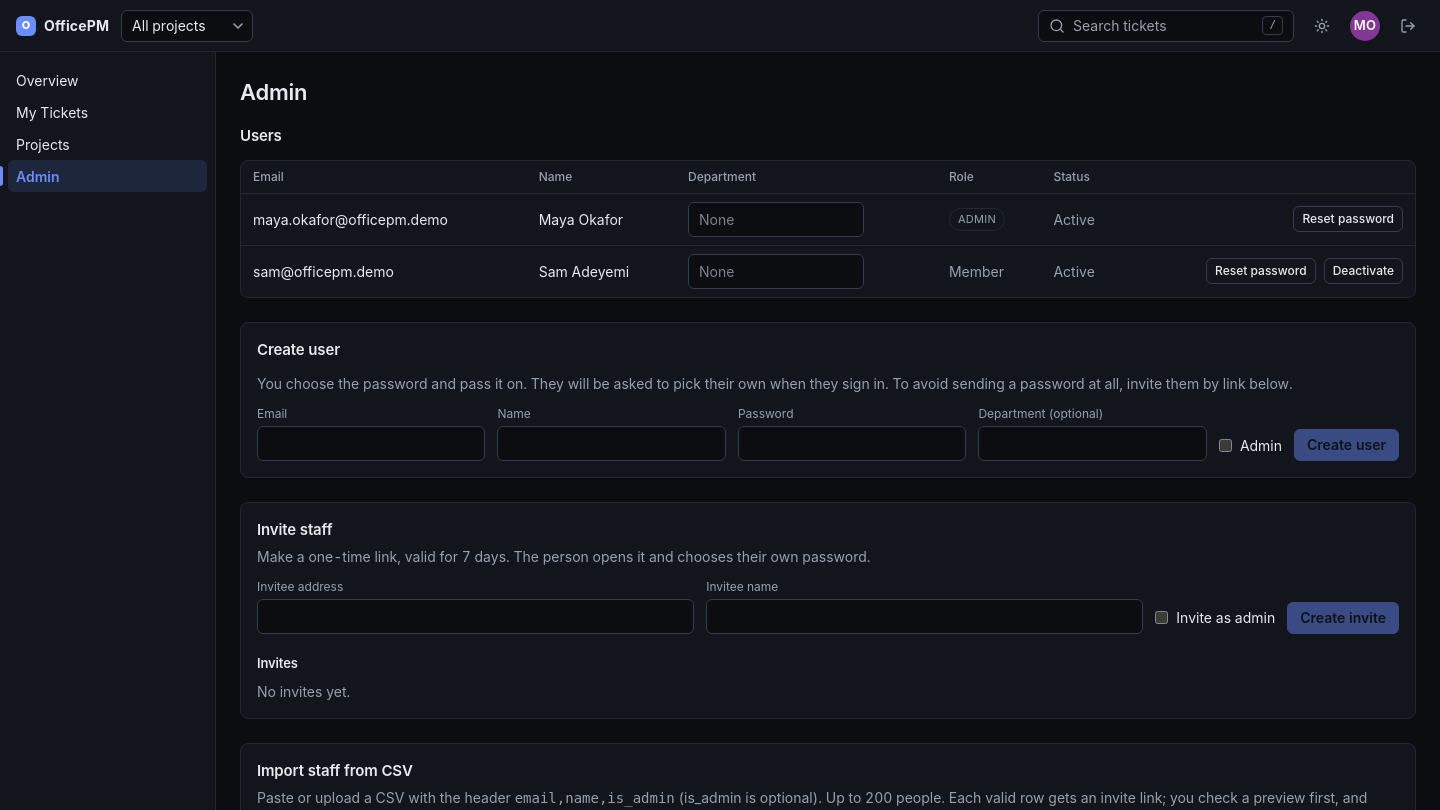
Test case: deactivating and reactivating people › asks first, then deactivates, and shows the new status
The width and height of the screenshot is (1440, 810).
Click the button with aria-label "Deactivate Sam Adeyemi" at (1363, 271), box [1324,258,1403,284]
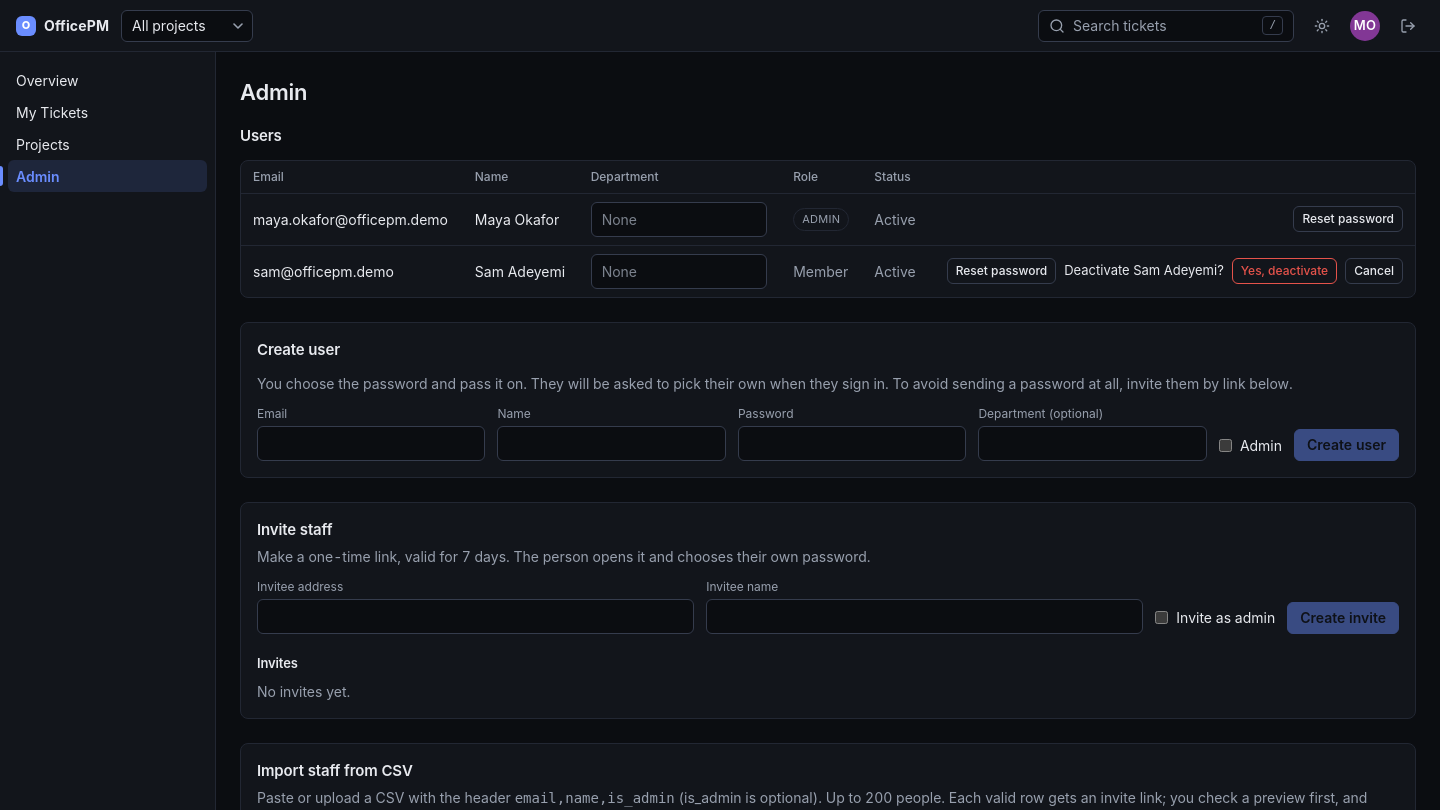
Expected: the text "Deactivate Sam Adeyemi?" is shown, [1064,261,1224,281]
Click the button "Yes, deactivate" at (1284, 271), box [1232,258,1337,284]
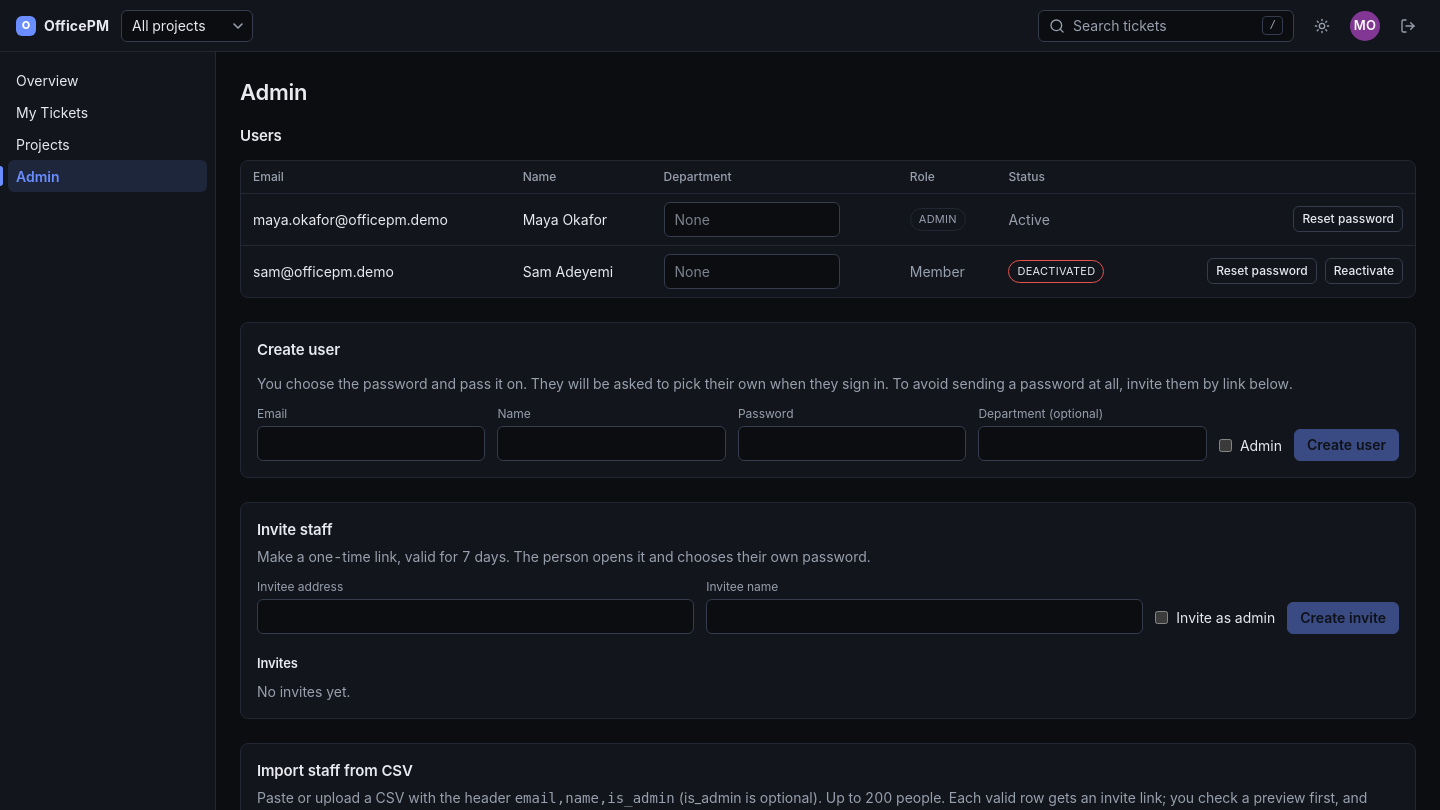
Expected: the row "sam@officepm.demo" shows "Deactivated", [1017,264,1095,278]
Expected: the button with aria-label "Reactivate Sam Adeyemi" is shown, [1325,258,1403,284]
